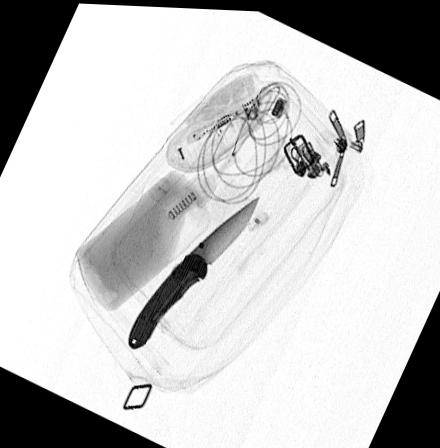Knife: (124, 190, 261, 350)
